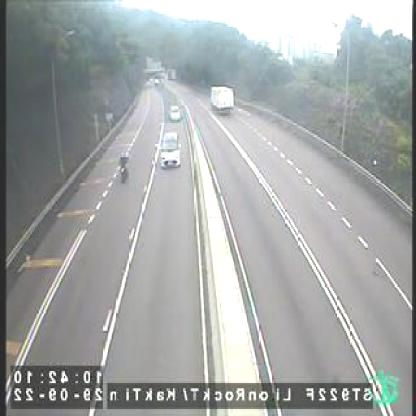Car: (160, 130, 183, 170), (166, 102, 184, 121)
Truck: (208, 82, 239, 114)
